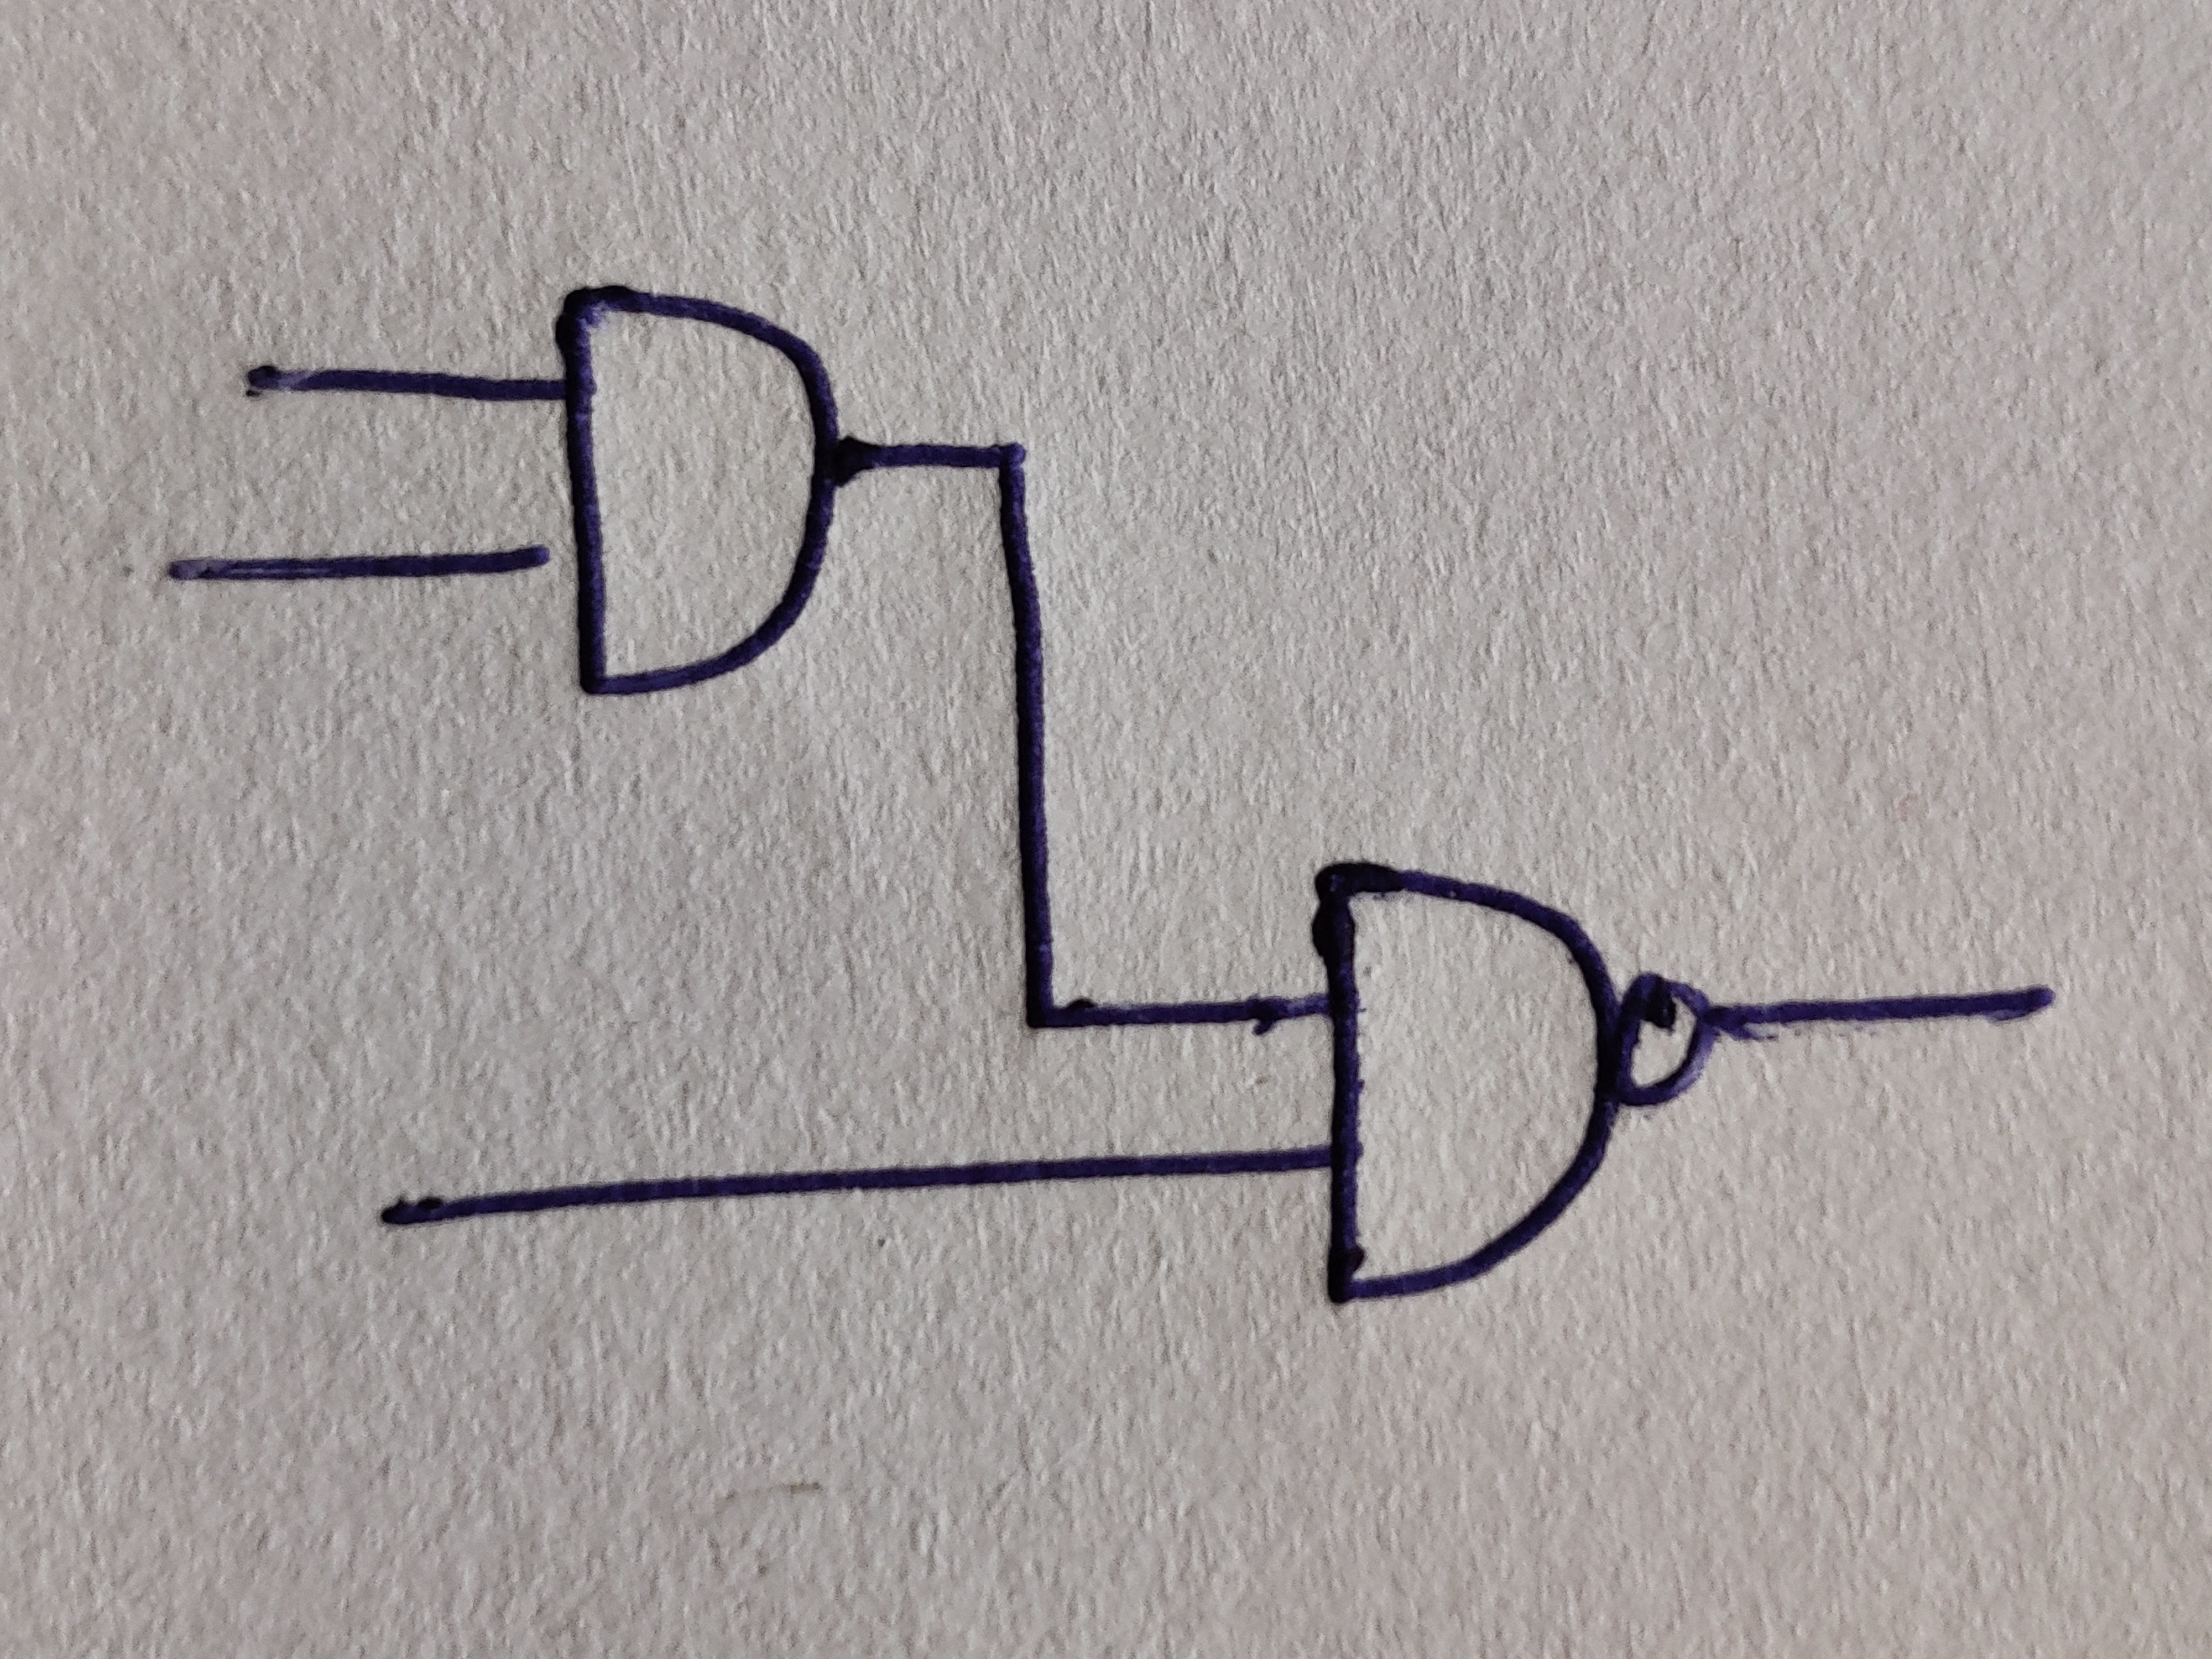and: (1310, 864, 1618, 1300), (554, 284, 838, 697)
not: (1616, 972, 1717, 1107)
